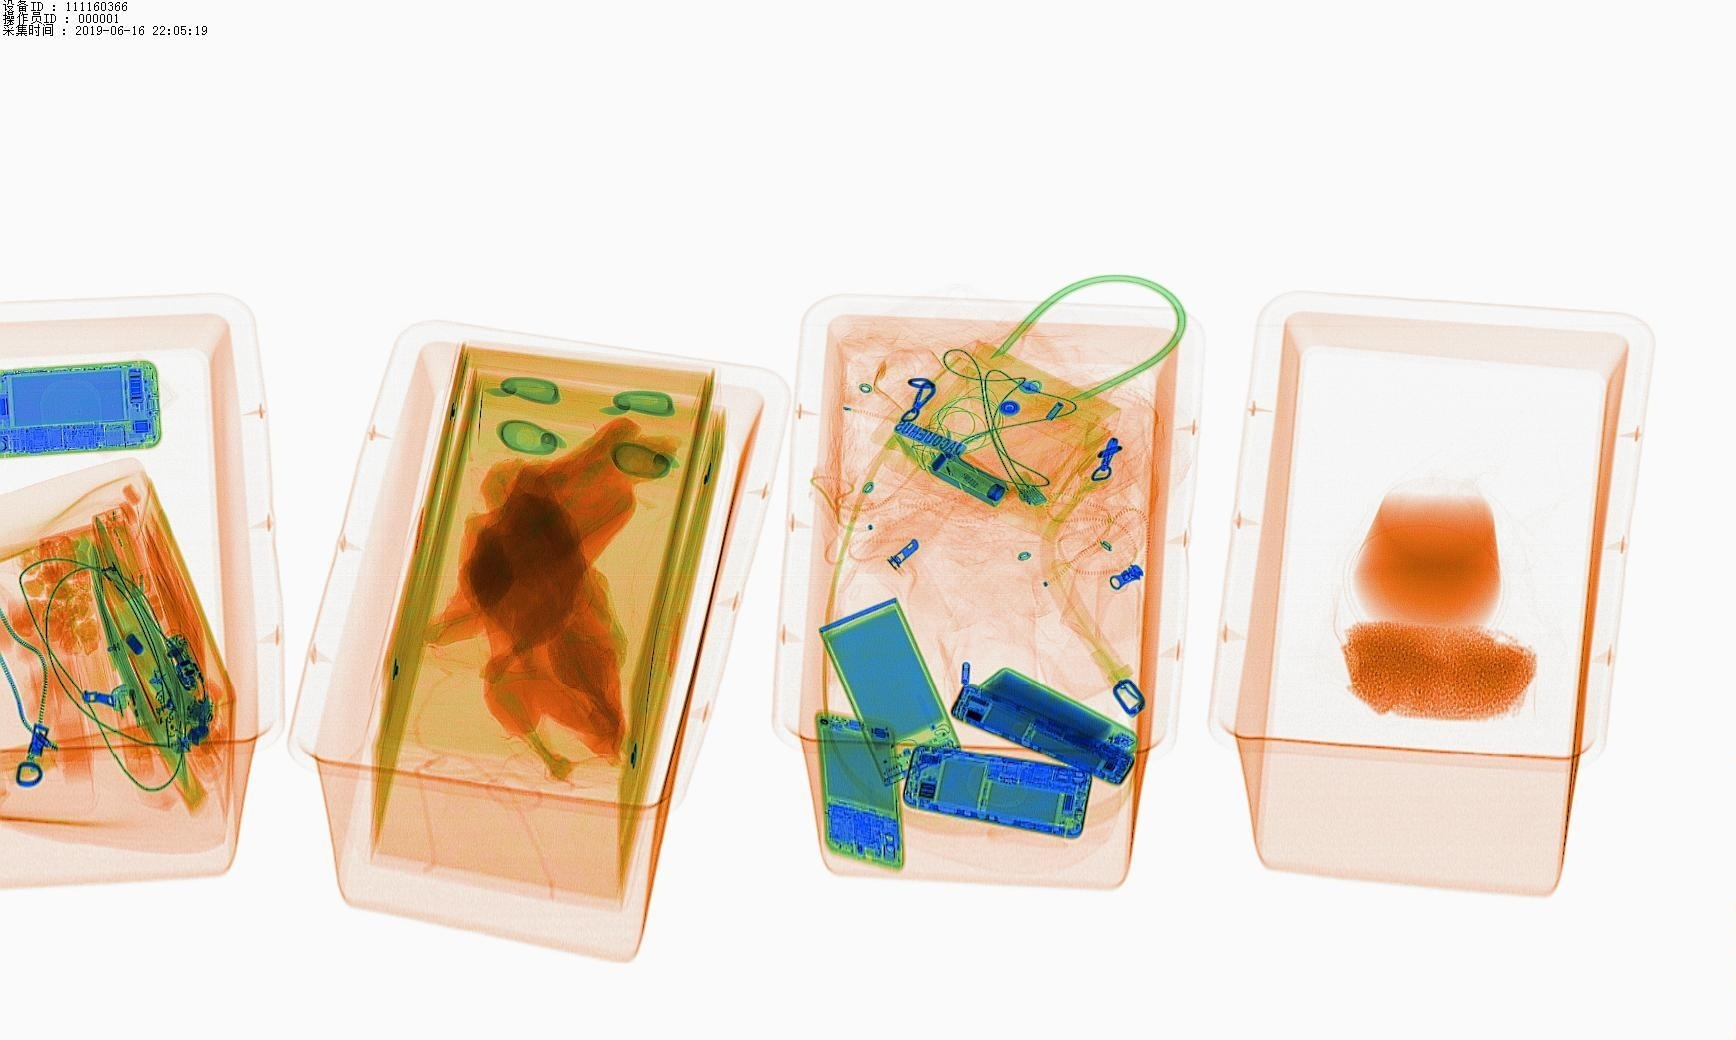NonmetallicFire: (85, 660, 180, 823)
